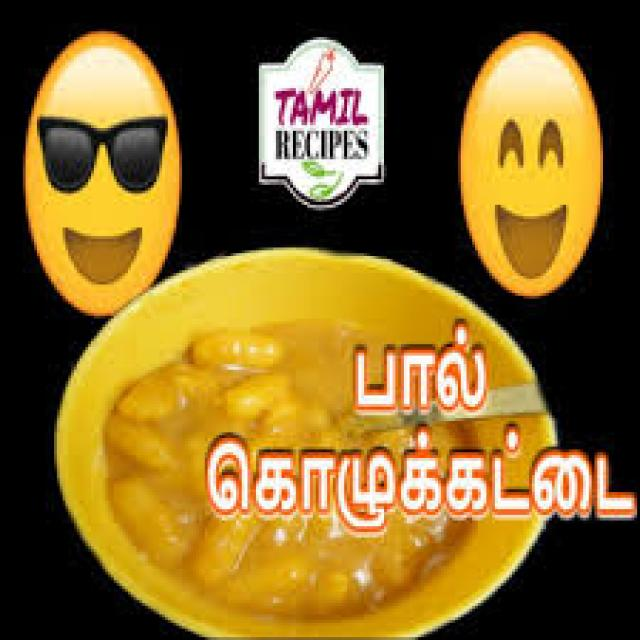paal kolukattai: (106, 328, 329, 579)
